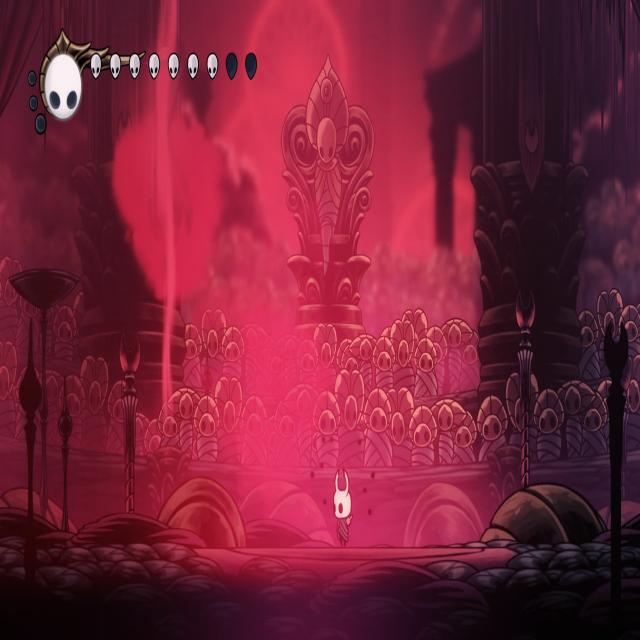Player: (332, 464, 357, 545)
